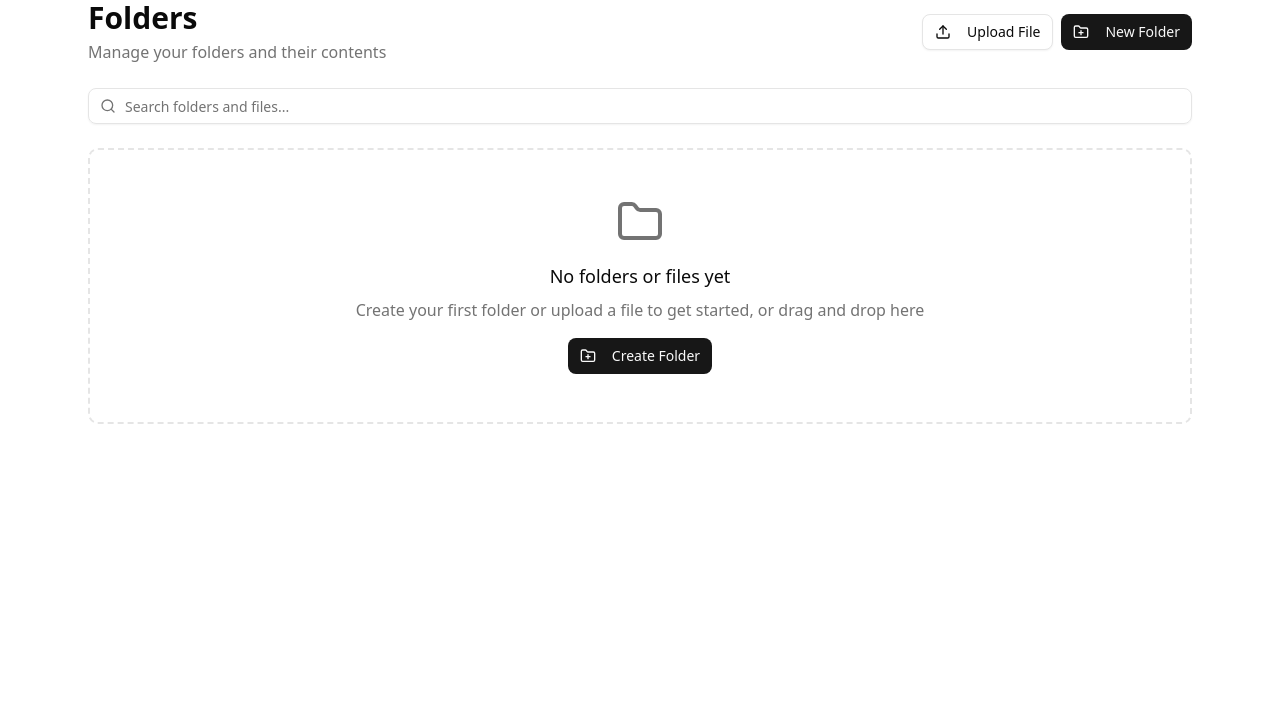
Test: FoldersPage › opens create folder dialog when New Folder is clicked
This screenshot has width=1280, height=720.
What coordinates should you click on to do the following:
click the button "New Folder"
I would click on:
 (1127, 32)
Its box is [1062, 14, 1192, 50].
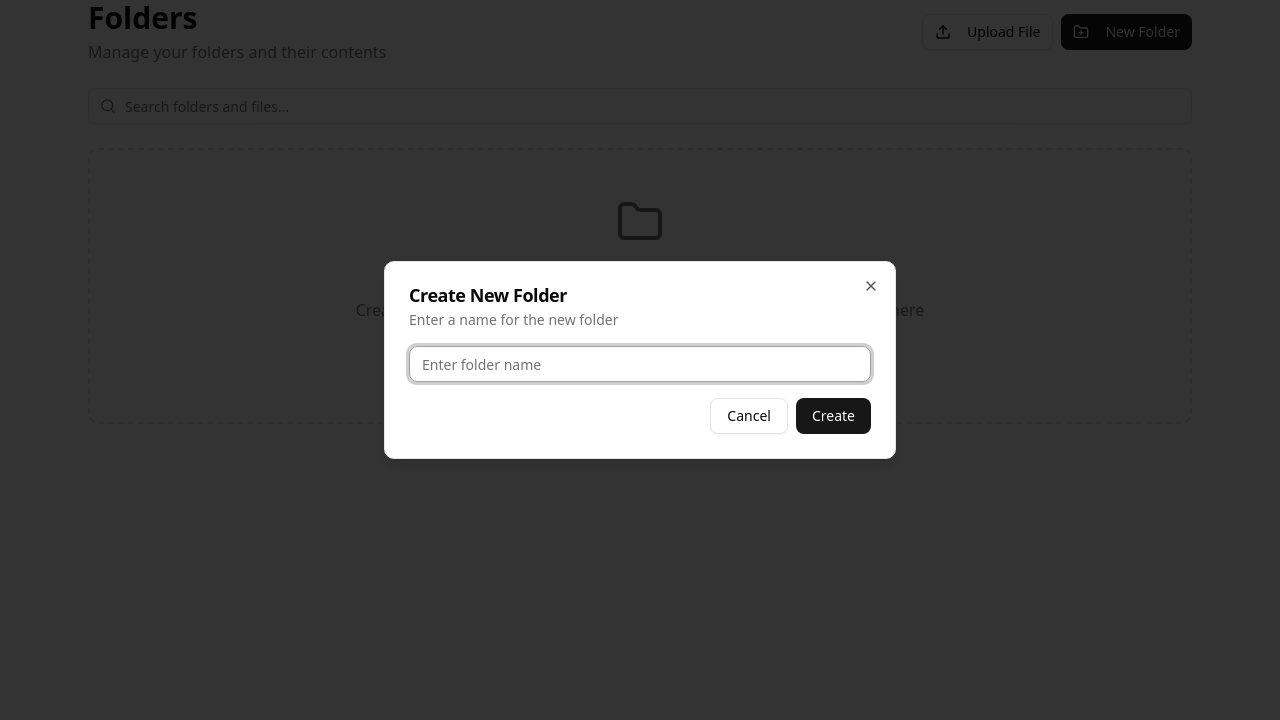
Now the dialog is shown, box [384, 261, 896, 459]
